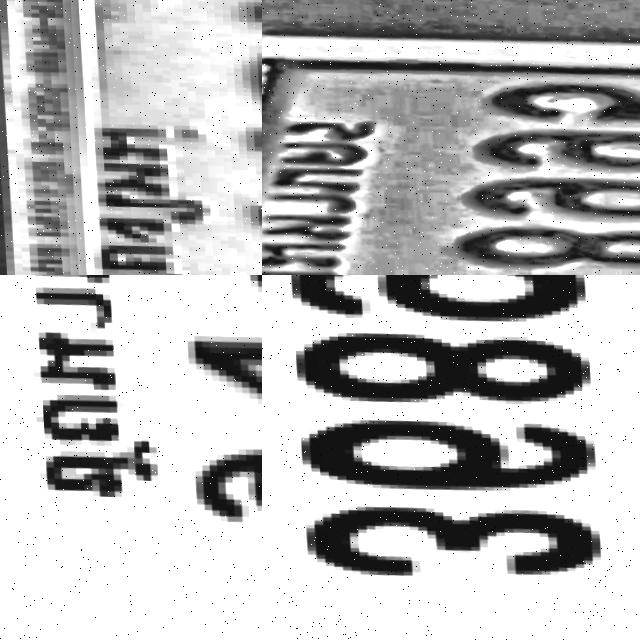license-plate: (262, 275, 640, 640), (262, 0, 640, 275), (0, 275, 262, 640), (0, 0, 262, 275)
